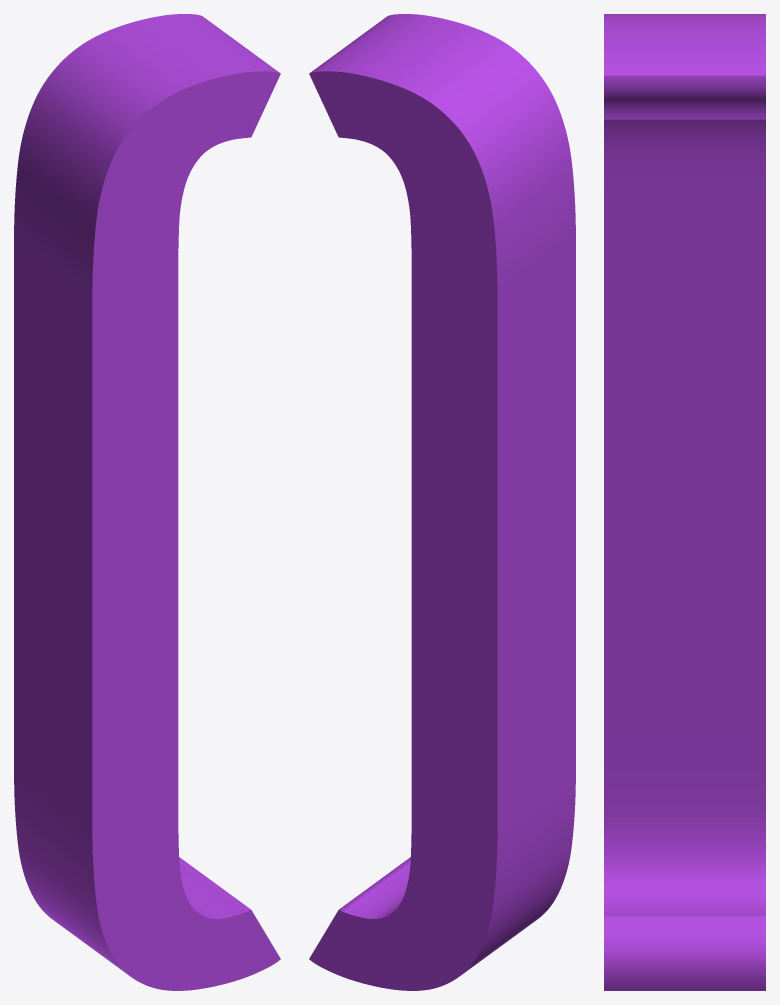
The model's file is paren.glb.
3 renders of one model, left to right at view 1: azimuth 30°, elevation 25°; view 2: azimuth 150°, elevation 25°; view 3: azimuth 270°, elevation 25°, orthographic. The views are drawn at different scales.
Visible parts, largest first — view 1: Text; view 2: Text; view 3: Text.
Part boxes in pixels (left/top/right/bottom): Text: left=14, top=14, right=280, bottom=990; Text: left=309, top=14, right=575, bottom=990; Text: left=604, top=14, right=765, bottom=990.
Bounding box in the file's own units: 0.1667 × 0.7669 × 0.12.
